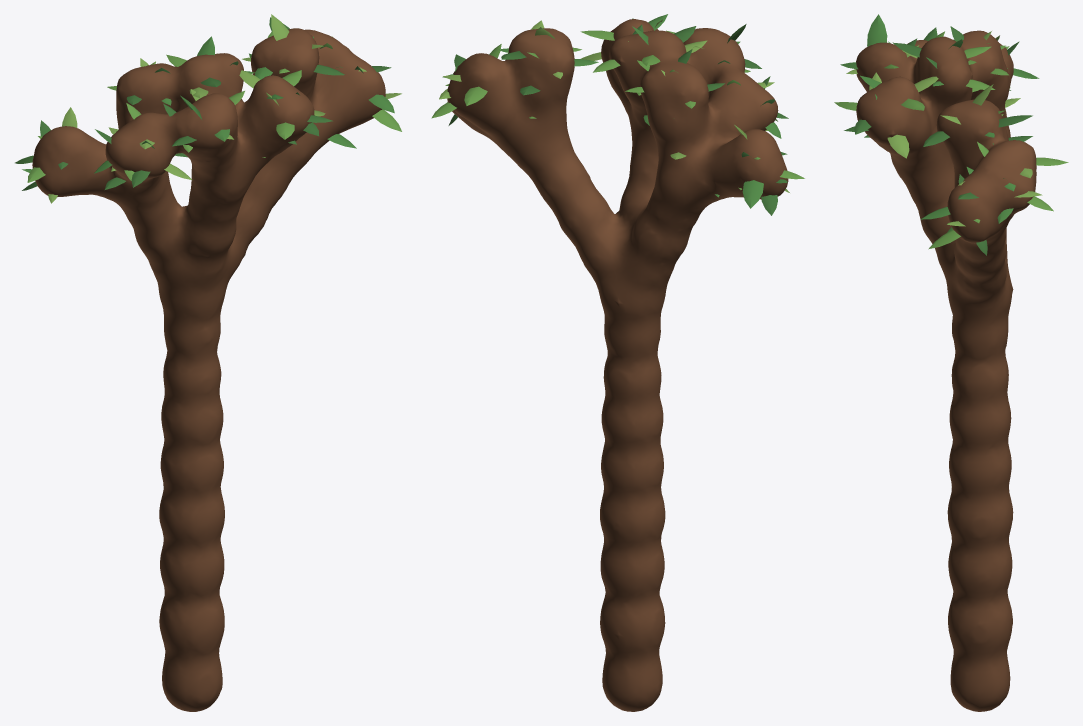
Rendered from plant_cherry_lod0.obj.
The picture shows the model from 3 angles, left to right: view 1: azimuth 30°, elevation 25°; view 2: azimuth 150°, elevation 25°; view 3: azimuth 270°, elevation 25°; orthographic projection.
Parts seen in each view (by area): view 1: branches, leaves; view 2: branches, leaves; view 3: branches, leaves.
Boxes of the visible parts, x1,y1,x2,y2 form: branches: (32, 28, 385, 711); leaves: (15, 14, 401, 203); branches: (447, 19, 788, 711); leaves: (431, 14, 804, 215); branches: (856, 30, 1036, 711); leaves: (834, 14, 1068, 255).
Size of the model in its own units: 3.04 by 5.42 by 1.71.
